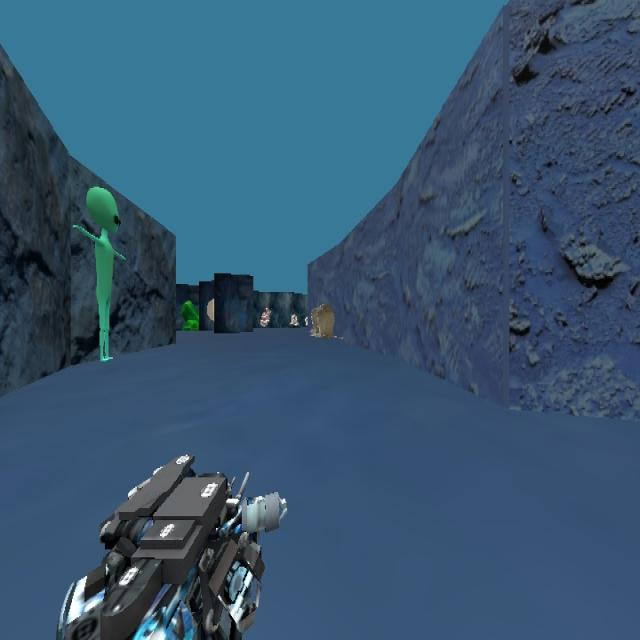Alien: (71, 184, 126, 361)
Diamon: (178, 294, 199, 333)
Ice: (307, 296, 343, 338), (207, 294, 222, 330)
Mushroom: (258, 300, 276, 336)
